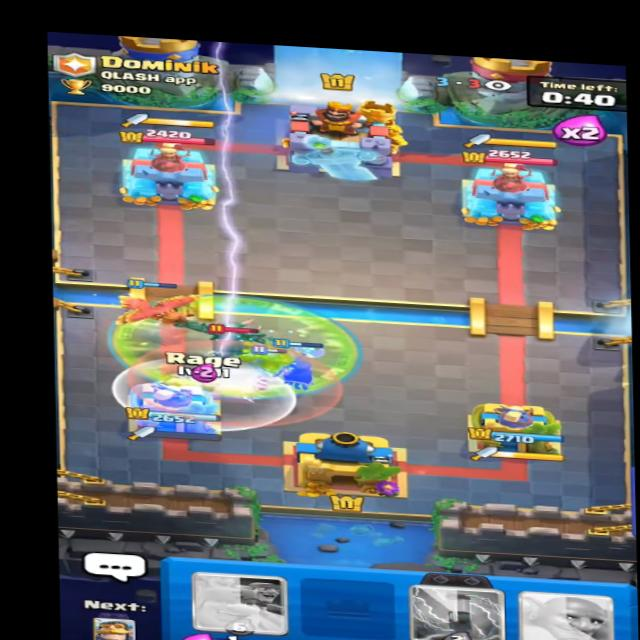pekka: (166, 308, 276, 364)
zap: (196, 39, 262, 365)
